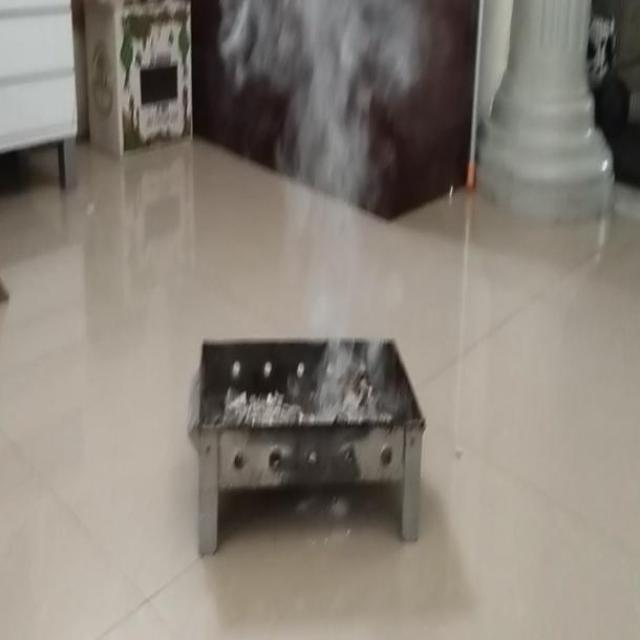fire: (276, 114, 381, 334), (215, 0, 419, 113)
